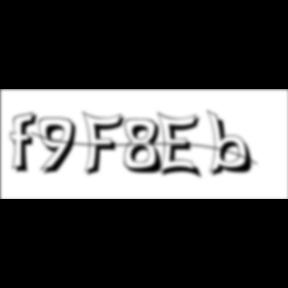8: (124, 117, 168, 176)
9: (38, 117, 84, 177)
E: (158, 110, 206, 182)
F: (82, 110, 130, 178)
b: (206, 109, 260, 179)
f: (10, 111, 44, 175)
